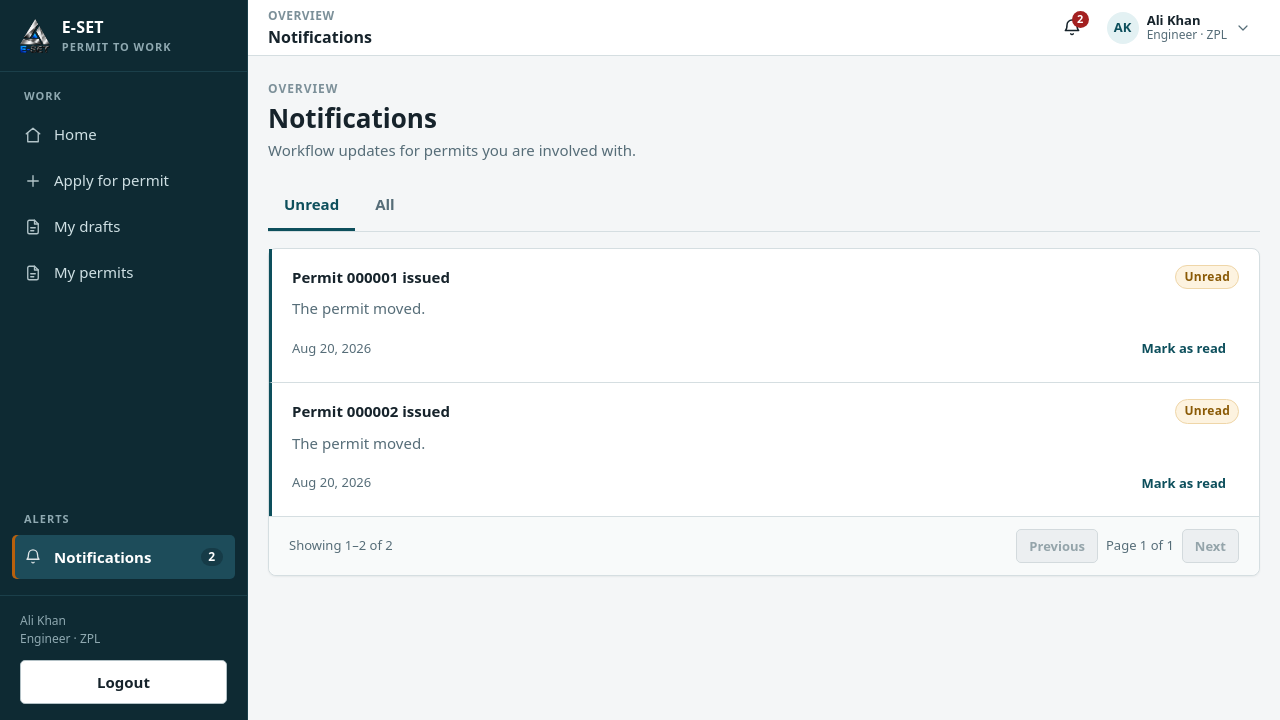
the unread badge follows the unread list › drops to 1 the moment one is marked read
expect the text "Permit 000001 issued" is shown: met, box [292,266,450,288]
expect the list item "Permit 000001 issued" is shown: met, box [292,267,450,287]
Step 1. Click the 1st button "Mark as read" → (1184,349), box [1128,332,1239,366]
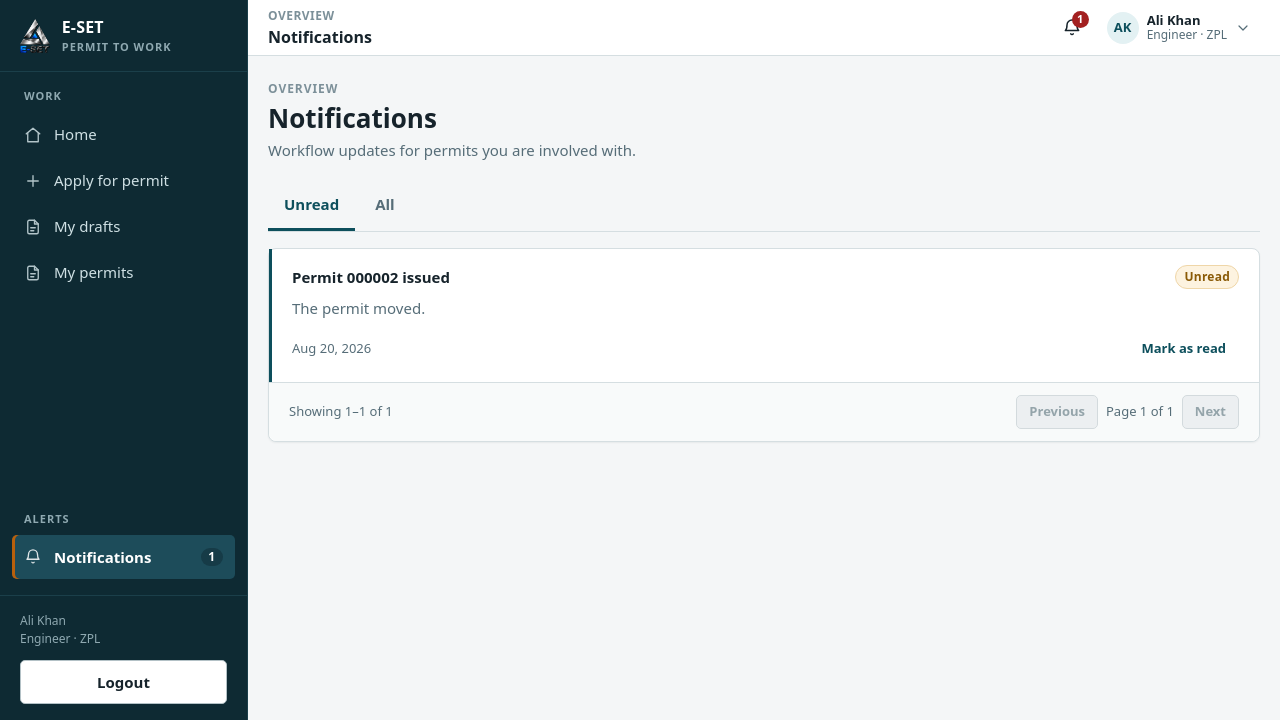
expect the text "Permit 000002 issued" is shown: met, box [292,266,450,288]
expect the text "Permit 000001 issued" is gone: met
